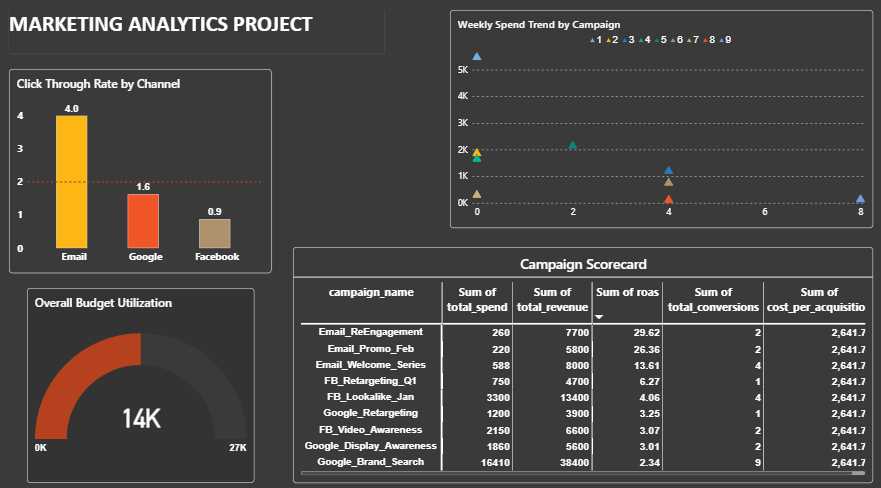

Layout of this report page (visuals, bound fields, positions):
{"tool":"powerbi","page":{"name":"Channel Deep Dive","canvas":[1920,1080],"ordinal":1},"visuals":[{"type":"clusteredColumnChart","title":"Click Through Rate by Channel","fields":{"Category":["tbl_channel.channel"],"Y":["Sum(tbl_channel.ctr_percent)"]},"box":[32.8,158.7,566.9,440.9],"z":0},{"type":"lineChart","title":"Weekly Spend Trend by Campaign","fields":{"Category":["tbl_trends.week_number"],"Y":["Sum(tbl_trends.weekly_spend)"],"Series":["tbl_trends.campaign_id"]},"box":[960,35.3,912.1,471.2],"z":1000},{"type":"pivotTable","title":"Campaign Scorecard","fields":{"Rows":["tbl_roas.campaign_name","tbl_roas.channel"],"Values":["Sum(tbl_roas.total_spend)","Sum(tbl_roas.total_revenue)","Sum(tbl_roas.roas)","Sum(tbl_roas.total_conversions)","Sum(tbl_cpa.cost_per_acquisition)"]},"box":[667.4,540,1252.8,509.8],"z":2000},{"type":"gauge","title":"Overall Budget Utilization","fields":{"Y":["Sum(tbl_budget.actual_spend)"],"TargetValue":["Sum(tbl_budget.total_budget)"]},"box":[70.6,629.9,491.3,420.8],"z":3000},{"type":"textbox","box":[32.8,30.2,811.3,93.2],"z":4000}]}

Visuals, with their boxes in screenshot pixels (x1, y1, x2, y2), scaled from the page's 1920x1080 canvas onto the 881x488 screenshot:
"Click Through Rate by Channel" clusteredColumnChart: <box>15,72,275,271</box>
"Weekly Spend Trend by Campaign" lineChart: <box>440,16,859,229</box>
"Campaign Scorecard" pivotTable: <box>306,244,880,474</box>
"Overall Budget Utilization" gauge: <box>32,285,258,475</box>
textbox: <box>15,14,387,56</box>
